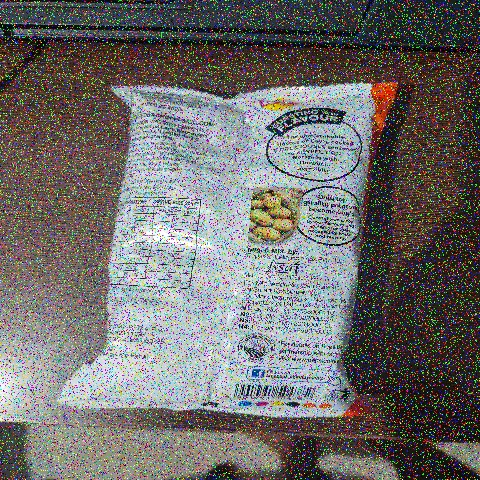lays_orange_pack: (92, 59, 380, 429)
